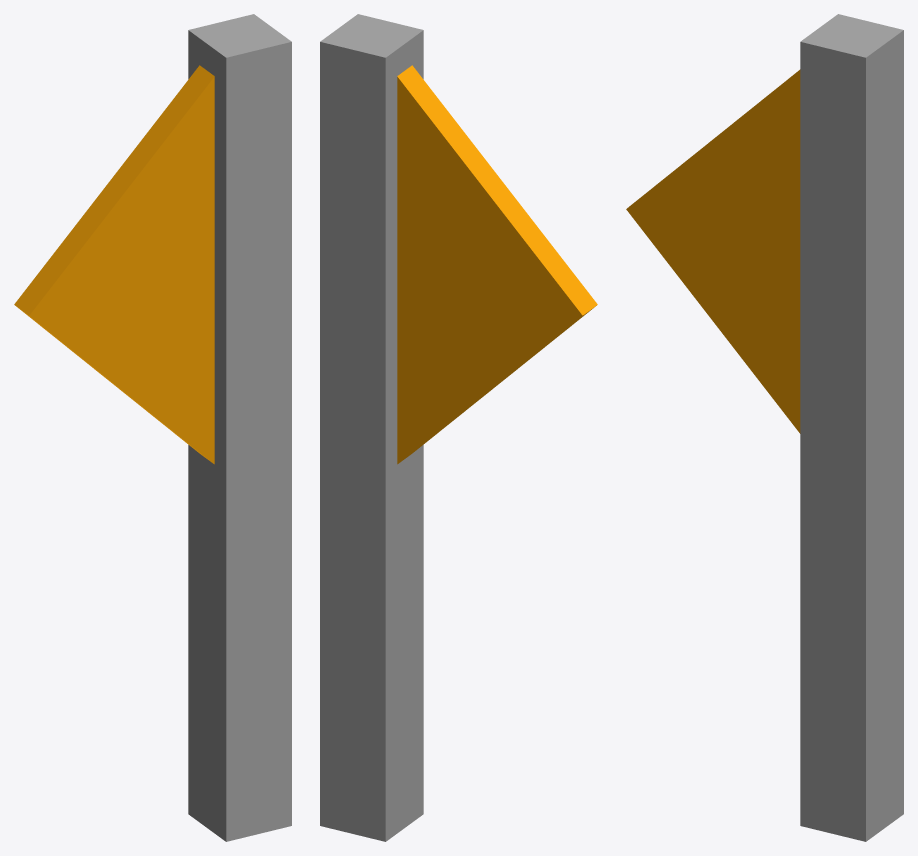
Rendered from markerpost.gltf.
3 views of the same model, side by side, from view 1: azimuth 30°, elevation 25°; view 2: azimuth 150°, elevation 25°; view 3: azimuth 330°, elevation 25° (orthographic).
Parts seen in each view (by area): view 1: 0c784635-2b17-dcdb-358e-1c7a2fd77ee2, cdcfa1bd-e0e1-b2f3-ab60-a6788b3817cb, d8328f44-c7c4-12ca-e7db-0d3dcfda8323, 701ddb05-e618-59d5-8e91-6df9302c9ea8, 79fa5204-e66d-05ee-6a35-ef5b4447f144; view 2: 0c784635-2b17-dcdb-358e-1c7a2fd77ee2, cdcfa1bd-e0e1-b2f3-ab60-a6788b3817cb, d8328f44-c7c4-12ca-e7db-0d3dcfda8323, 701ddb05-e618-59d5-8e91-6df9302c9ea8, 79fa5204-e66d-05ee-6a35-ef5b4447f144; view 3: 0c784635-2b17-dcdb-358e-1c7a2fd77ee2, cdcfa1bd-e0e1-b2f3-ab60-a6788b3817cb, d8328f44-c7c4-12ca-e7db-0d3dcfda8323, 701ddb05-e618-59d5-8e91-6df9302c9ea8, 79fa5204-e66d-05ee-6a35-ef5b4447f144.
Boxes of the visible parts, x1,y1,x2,y2 form: 0c784635-2b17-dcdb-358e-1c7a2fd77ee2: [188, 14, 291, 841]; cdcfa1bd-e0e1-b2f3-ab60-a6788b3817cb: [23, 65, 214, 352]; d8328f44-c7c4-12ca-e7db-0d3dcfda8323: [14, 245, 214, 464]; 701ddb05-e618-59d5-8e91-6df9302c9ea8: [162, 166, 214, 385]; 79fa5204-e66d-05ee-6a35-ef5b4447f144: [103, 234, 162, 344]; 0c784635-2b17-dcdb-358e-1c7a2fd77ee2: [320, 14, 423, 841]; cdcfa1bd-e0e1-b2f3-ab60-a6788b3817cb: [397, 65, 591, 352]; d8328f44-c7c4-12ca-e7db-0d3dcfda8323: [397, 245, 597, 464]; 701ddb05-e618-59d5-8e91-6df9302c9ea8: [397, 166, 449, 385]; 79fa5204-e66d-05ee-6a35-ef5b4447f144: [449, 234, 508, 344]; 0c784635-2b17-dcdb-358e-1c7a2fd77ee2: [800, 14, 903, 841]; cdcfa1bd-e0e1-b2f3-ab60-a6788b3817cb: [628, 69, 800, 268]; d8328f44-c7c4-12ca-e7db-0d3dcfda8323: [626, 172, 800, 433]; 701ddb05-e618-59d5-8e91-6df9302c9ea8: [759, 137, 800, 353]; 79fa5204-e66d-05ee-6a35-ef5b4447f144: [700, 178, 758, 288].
Bounding box in the file's own units: 0.239 × 0.7125 × 0.0625.
Materials: 2 (2 with a texture image).
